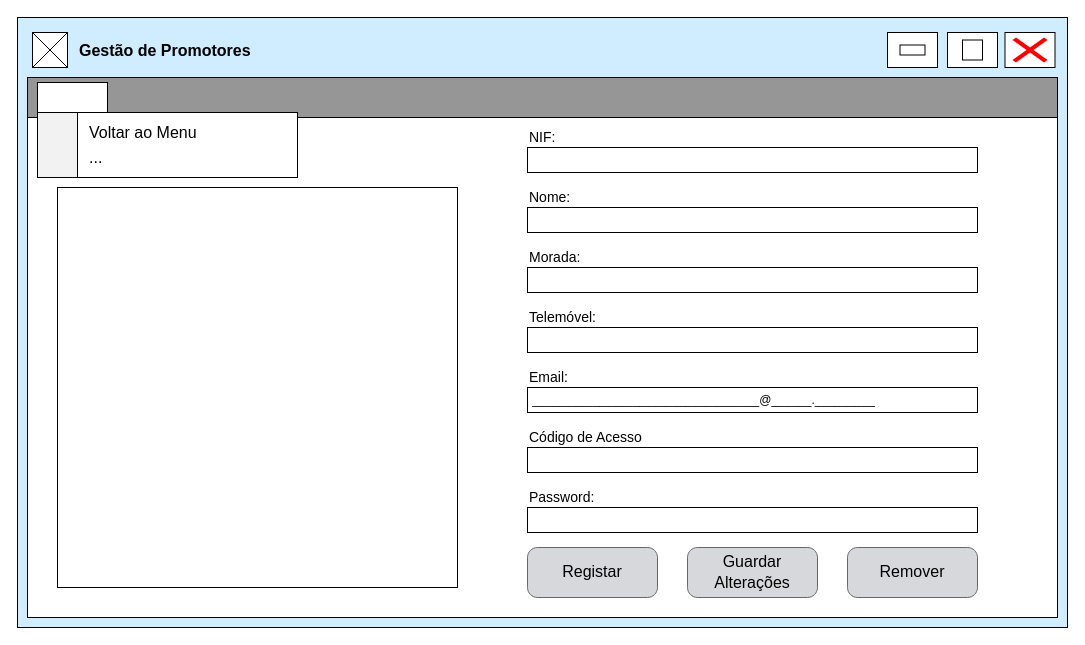
Some shapes in this 1085 by 645 pixel diagram are drawn without their labels. Each missing label, with the centre of its shape:
"ListBox Promotores" goes at pixel 257 387.
"Menu" goes at pixel 72 97.
